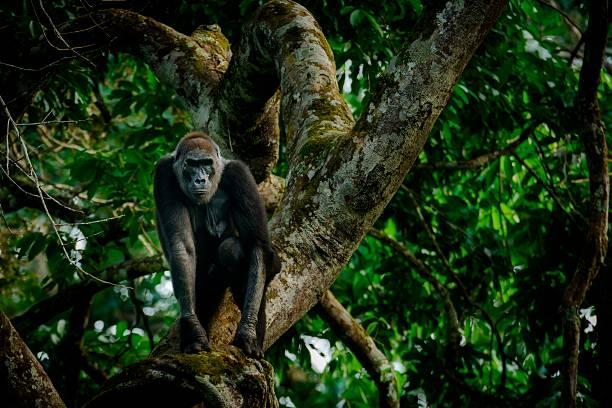gorille_Autres: (107, 121, 304, 391)
